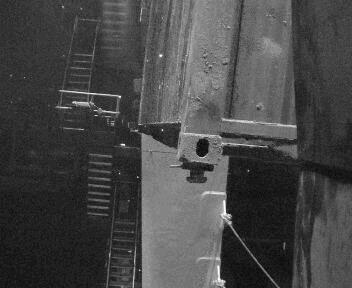twist_lock_1: (191, 166, 247, 208)
